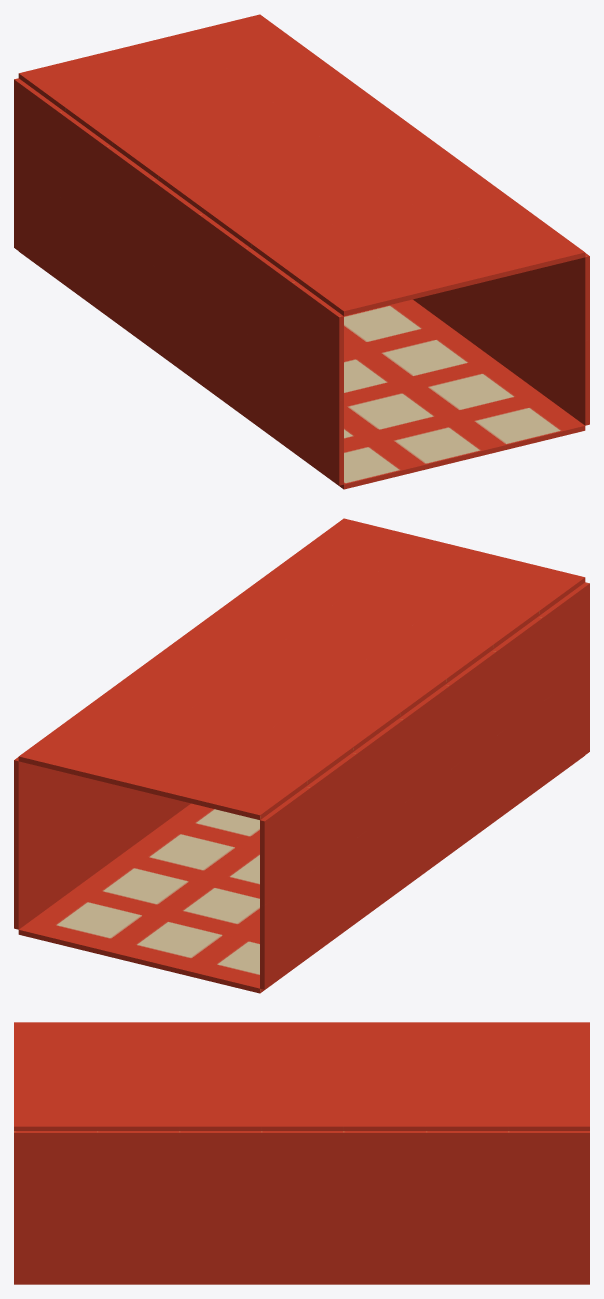
Rendered from Corredor.fbx.
3 views of the same model, one above another, from view 1: azimuth 30°, elevation 25°; view 2: azimuth 150°, elevation 25°; view 3: azimuth 270°, elevation 25° (orthographic). The views are drawn at different scales.
Parts seen in each view (by area): view 1: Corredor; view 2: Corredor; view 3: Corredor.
Boxes of the visible parts, x1,y1,x2,y2 form: Corredor: (14, 14, 589, 489); Corredor: (14, 518, 589, 993); Corredor: (14, 1022, 589, 1284).
Bounding box in the file's own units: 623 × 423 × 1400.
